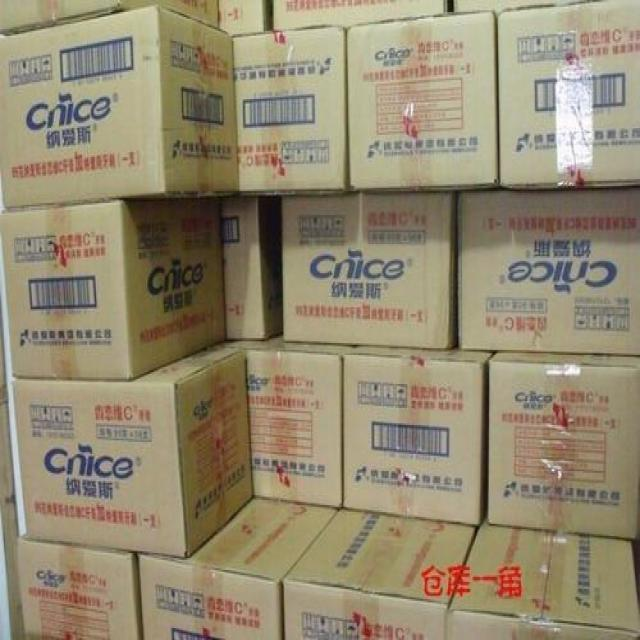box: (17, 346, 252, 558), (0, 9, 241, 207), (0, 198, 224, 386), (453, 177, 640, 359), (478, 334, 640, 534), (133, 490, 343, 640), (276, 191, 467, 353), (341, 3, 499, 196), (487, 0, 640, 188), (342, 331, 488, 527), (283, 503, 475, 640), (448, 513, 640, 640), (230, 34, 354, 202), (241, 342, 347, 510), (10, 531, 138, 640)
